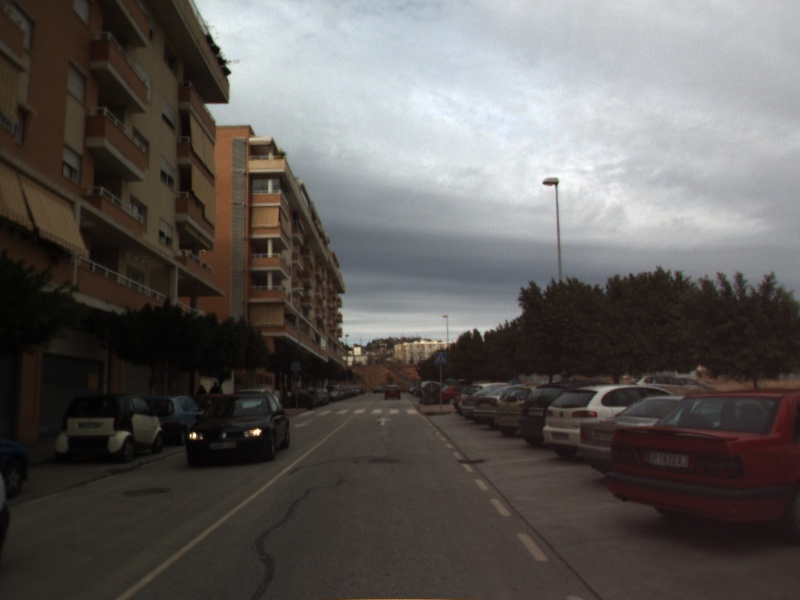STRAIGHT: (374, 415, 393, 428)
